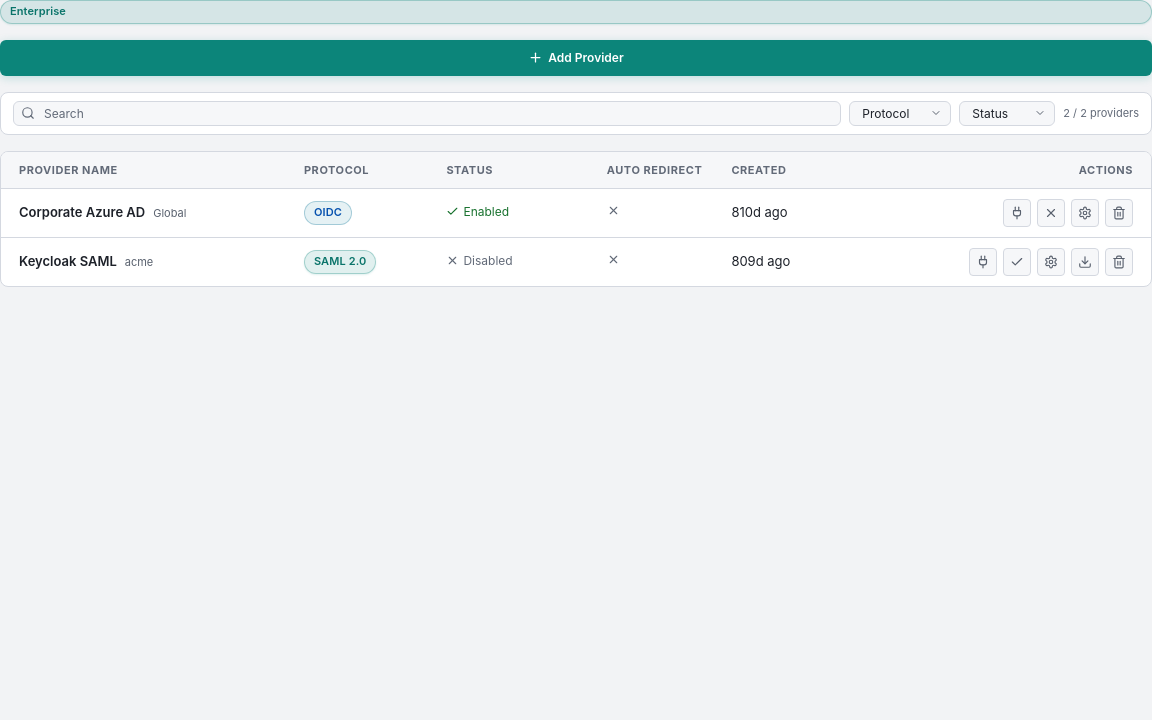
Test case: SsoProviders.vue › opens edit dialog populated with provider config
Click the button with class "btn-icon" in the row of "Corporate Azure AD": click(1085, 213) [1071,199,1099,227]
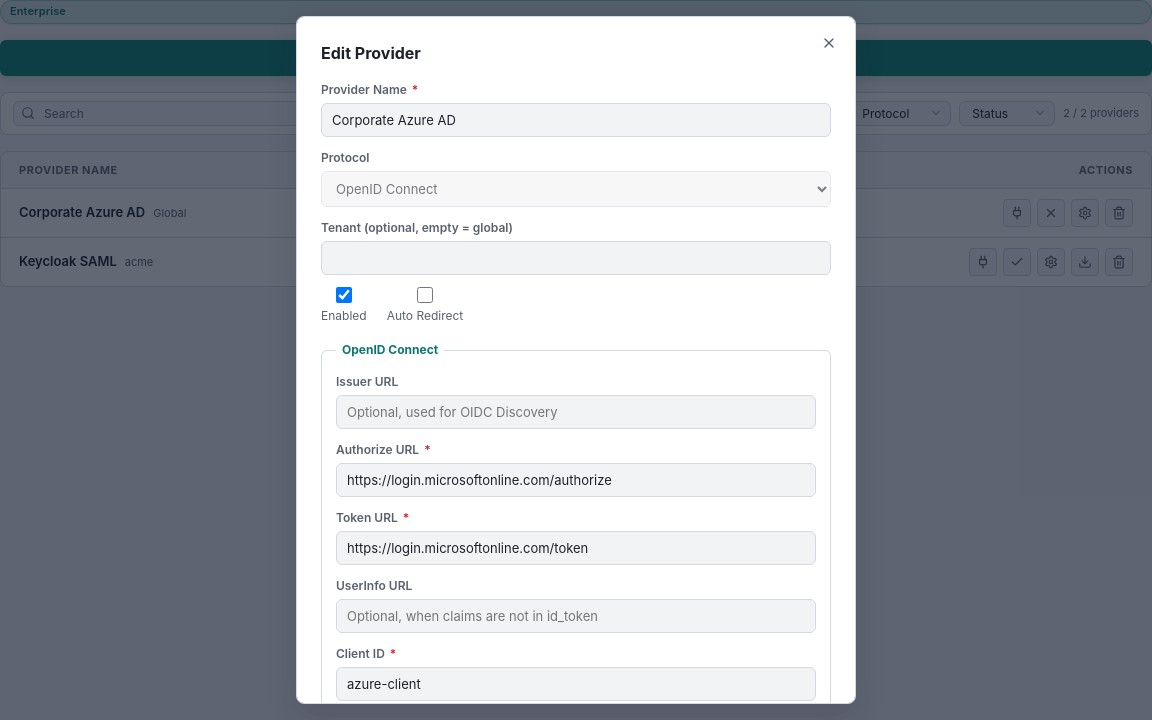
Expected: the text "Corporate Azure AD" is shown, [19,203,145,223]
Result: the dialog with class "sso-dialog" is shown at [296,16,856,704]
